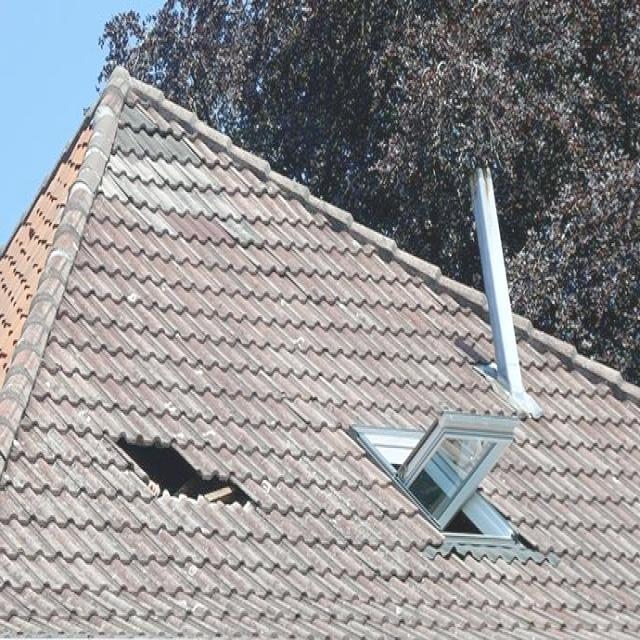trou: (100, 431, 262, 516)
